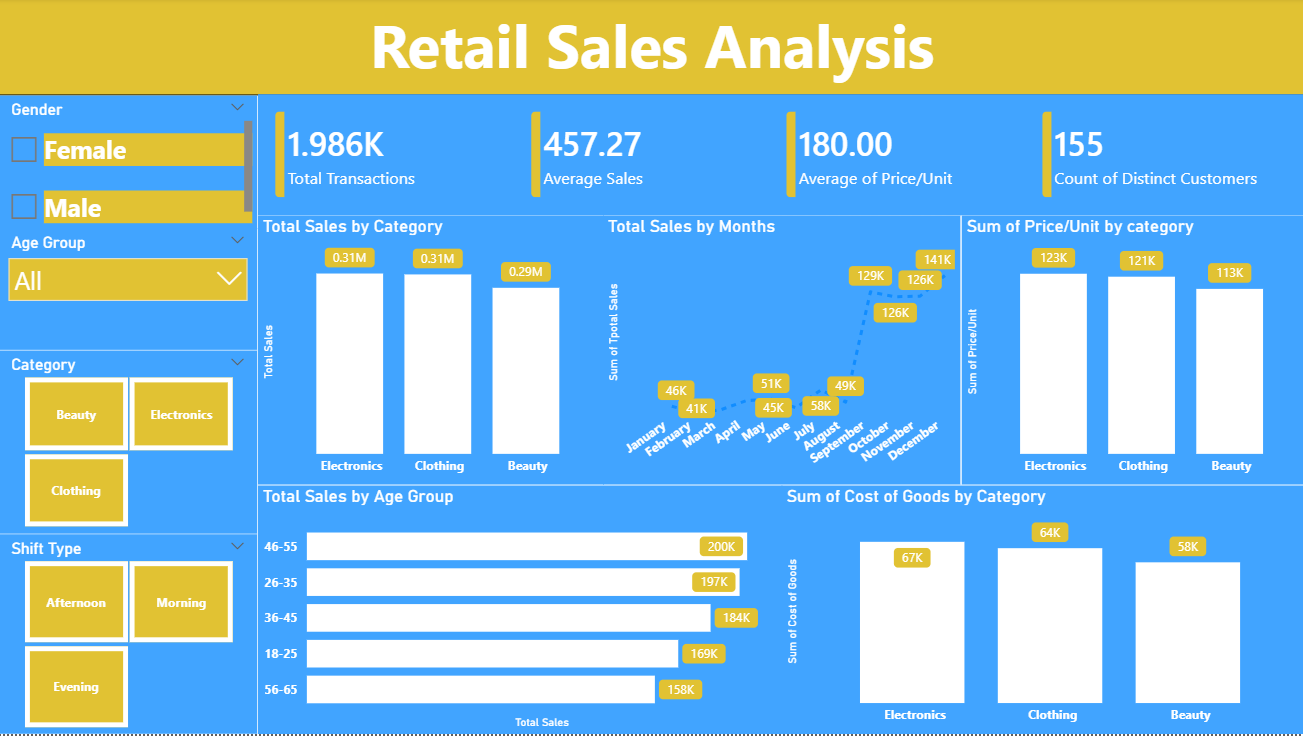

What the dashboard file says about the page in this screenshot:
{"tool":"powerbi","page":{"name":"Page 1","canvas":[1280,720],"ordinal":0},"visuals":[{"type":"textbox","box":[0,0,1280.3,95],"z":0},{"type":"cardVisual","fields":{"Data":["CountNonNull(Retail Sales Dataset.transactions_id)","Avg(Retail Sales Dataset.total_sale)","Avg(Retail Sales Dataset.price_per_unit)","Count(Retail Sales Dataset.customer_id)"]},"box":[253.9,94.7,1026.4,118],"z":1000},{"type":"columnChart","title":"Total Sales by Category","fields":{"Category":["Retail Sales Dataset.category"],"Y":["Sum(Retail Sales Dataset.total_sale)"]},"box":[253.9,213.2,338.1,263.4],"z":2000},{"type":"columnChart","fields":{"Category":["Retail Sales Dataset.category"],"Y":["Sum(Retail Sales Dataset.price_per_unit)"]},"box":[942.2,213.2,338.1,263.4],"z":3000},{"type":"barChart","title":"Total Sales by Age Group","fields":{"Category":["Retail Sales Dataset.Age Group"],"Y":["Sum(Retail Sales Dataset.total_sale)"]},"box":[253.9,476.5,513.2,243],"z":4000},{"type":"columnChart","fields":{"Y":["Sum(Retail Sales Dataset.cogs)"],"Category":["Retail Sales Dataset.category"]},"box":[767.1,476.5,513.2,243],"z":5000},{"type":"slicer","fields":{"Values":["Retail Sales Dataset.Shift"]},"box":[0,524.1,253.9,195.5],"z":6000},{"type":"slicer","fields":{"Values":["Retail Sales Dataset.category"]},"box":[0,344.8,253.9,179.2],"z":7000},{"type":"slicer","fields":{"Values":["Retail Sales Dataset.gender"]},"box":[0,95,253.9,130.3],"z":8000},{"type":"slicer","fields":{"Values":["Retail Sales Dataset.Age Group"]},"box":[0,225.4,253.9,119.5],"z":9000},{"type":"lineChart","title":"Total Sales by Months","fields":{"Y":["Sum(Retail Sales Dataset.total_sale)"],"Category":["Retail Sales Dataset.sale_date.Variation.Date Hierarchy.Month","Retail Sales Dataset.sale_date.Variation.Date Hierarchy.Day"]},"box":[592.4,212.9,349.4,263.4],"z":10000}]}

Visuals, with their boxes in screenshot pixels (x1, y1, x2, y2), scaled from the page's 1280x720 canvas onto the 1303x737 screenshot:
textbox: box=[0, 0, 1302, 97]
cardVisual - CountNonNull(Retail Sales Dataset.transactions_id) x Avg(Retail Sales Dataset.total_sale): box=[258, 97, 1302, 218]
"Total Sales by Category" columnChart: box=[258, 218, 603, 488]
columnChart - Retail Sales Dataset.category x Sum(Retail Sales Dataset.price_per_unit): box=[959, 218, 1302, 488]
"Total Sales by Age Group" barChart: box=[258, 488, 781, 736]
columnChart - Sum(Retail Sales Dataset.cogs) x Retail Sales Dataset.category: box=[781, 488, 1302, 736]
slicer - Retail Sales Dataset.Shift: box=[0, 536, 258, 736]
slicer - Retail Sales Dataset.category: box=[0, 353, 258, 536]
slicer - Retail Sales Dataset.gender: box=[0, 97, 258, 231]
slicer - Retail Sales Dataset.Age Group: box=[0, 231, 258, 353]
"Total Sales by Months" lineChart: box=[603, 218, 959, 488]
